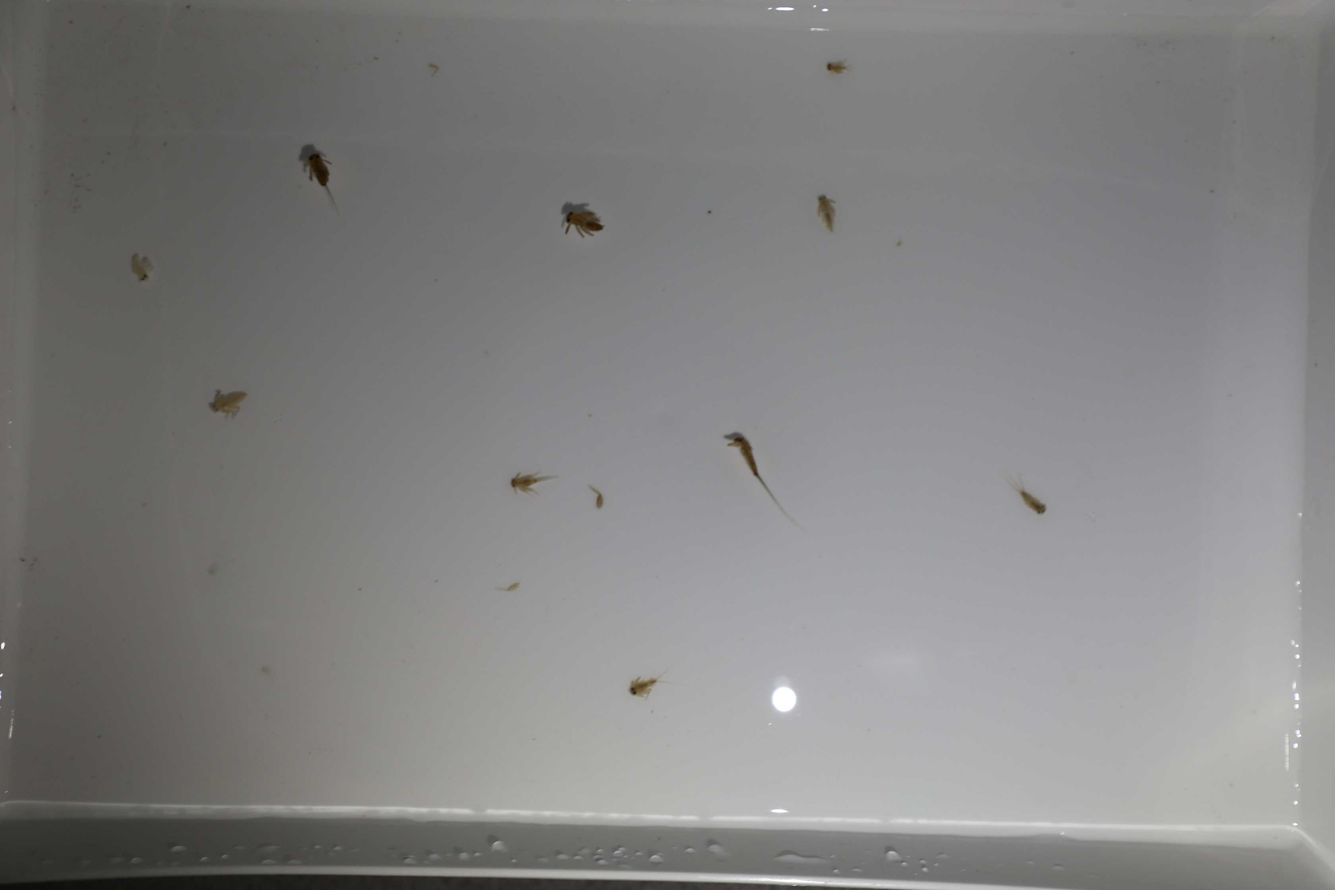Mayfly: (720, 431, 807, 540), (989, 457, 1053, 517), (297, 150, 345, 211), (553, 206, 619, 246), (623, 660, 692, 698), (200, 380, 256, 426), (801, 193, 857, 239), (502, 466, 561, 499), (817, 48, 855, 86), (125, 253, 159, 286)
